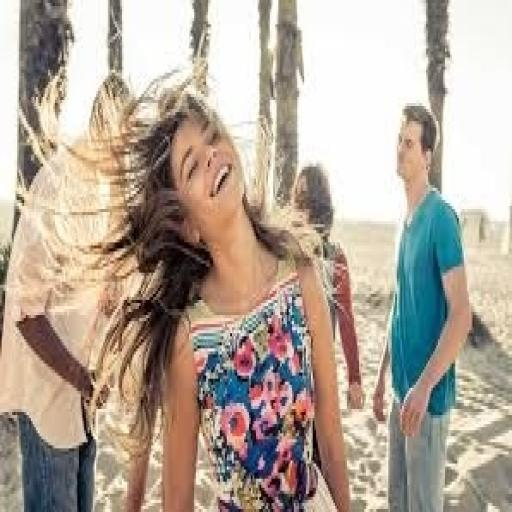dancing: (86, 61, 354, 509), (371, 100, 473, 509)
